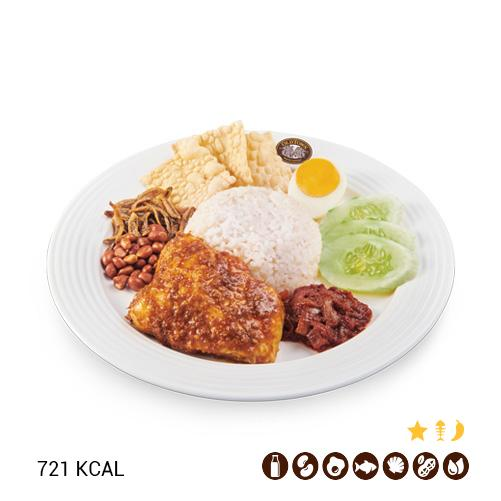Anchovies: (104, 188, 191, 243)
Boiled-Egg: (288, 158, 348, 225)
Cucumber: (320, 194, 418, 296)
Keropok: (140, 120, 295, 224)
Peanuts: (100, 224, 169, 292)
Rendang-Chicken: (125, 234, 284, 366)
Rice: (185, 187, 322, 298)
Sambal: (286, 285, 372, 350)
